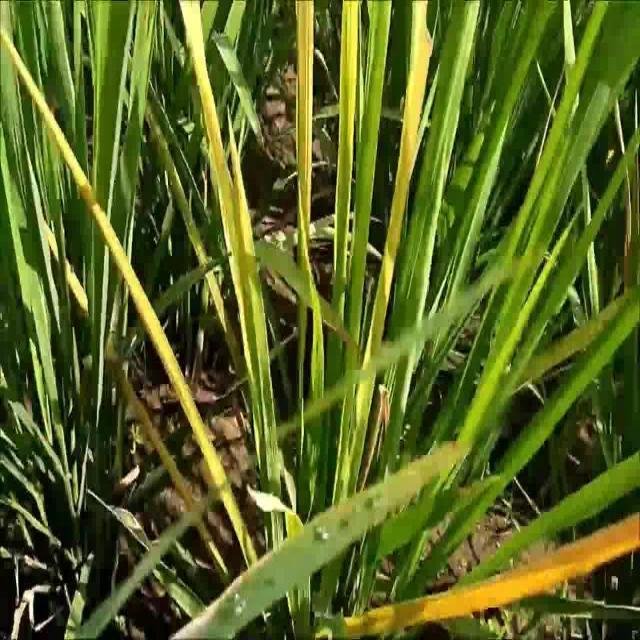Rice Tungro: (1, 23, 207, 464), (366, 504, 638, 640), (177, 1, 267, 327), (371, 3, 437, 325), (291, 3, 317, 251), (334, 4, 359, 189)
